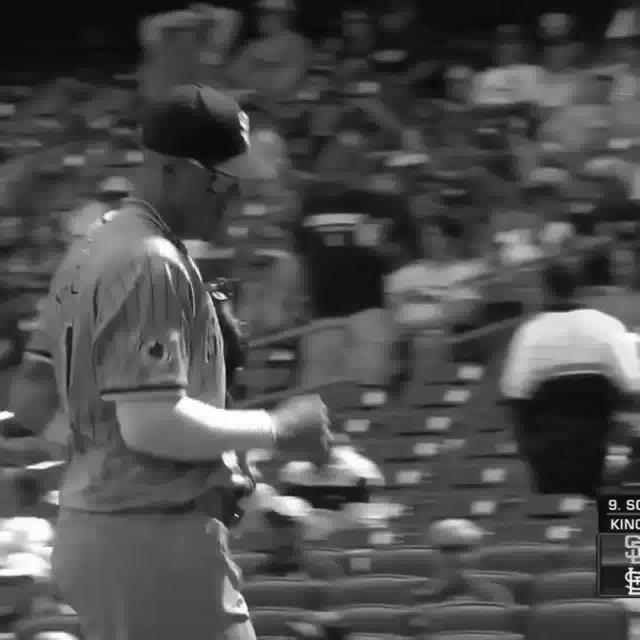baseball_glove: (209, 288, 247, 384)
